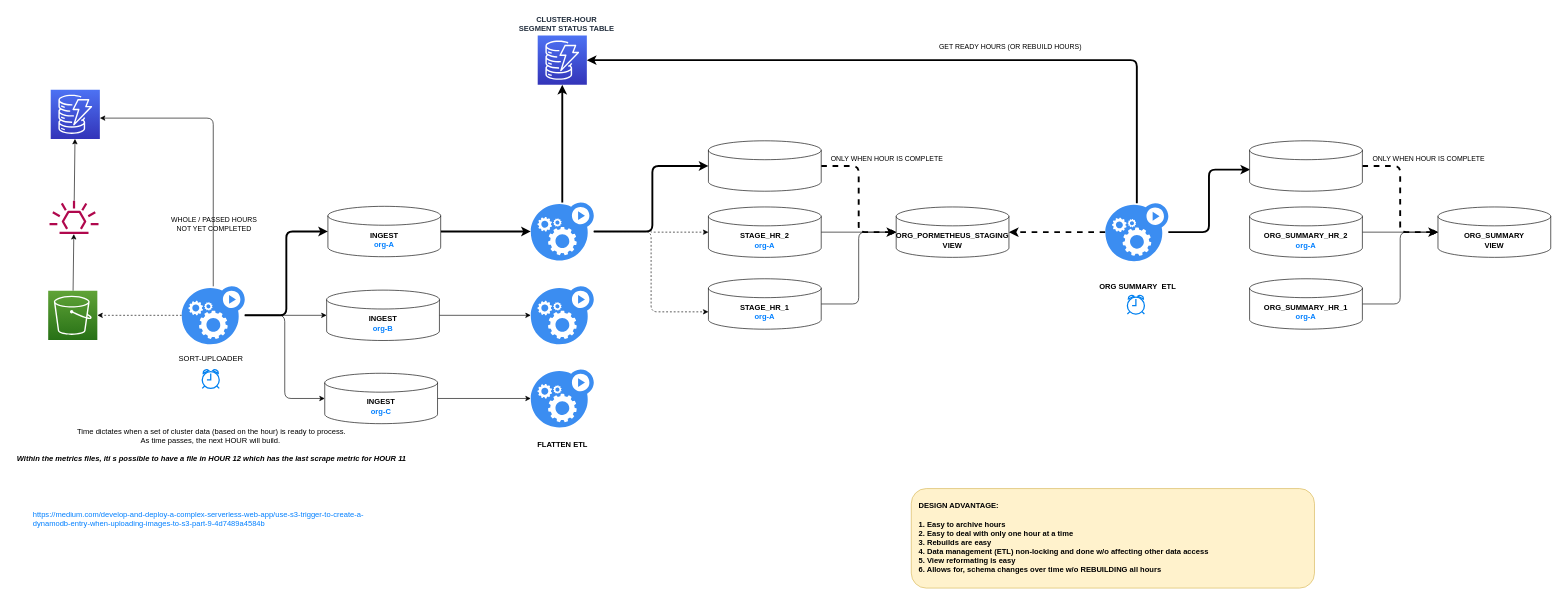
The diagram is 1562 pixels wide and 599 high, and some of its shapes have lost their labels. Each missing label, with the centre of its shape:
ORG_SUMMARY _HR_{CUR} org-A: point (1305, 165)
STAGE_HR_{CURRENT} org-A: point (764, 165)
